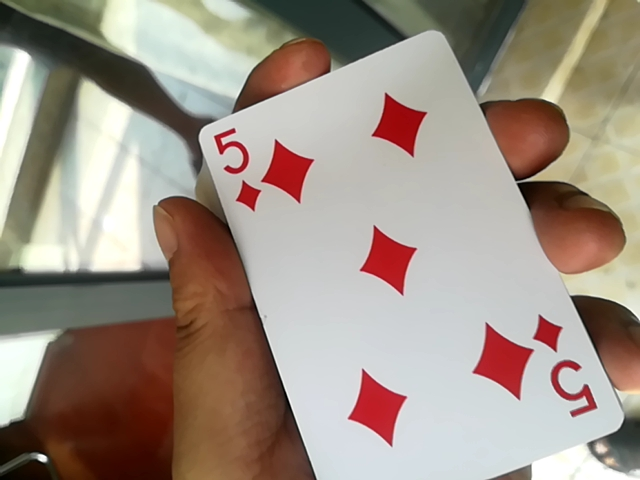fk 5: (191, 15, 621, 480)
